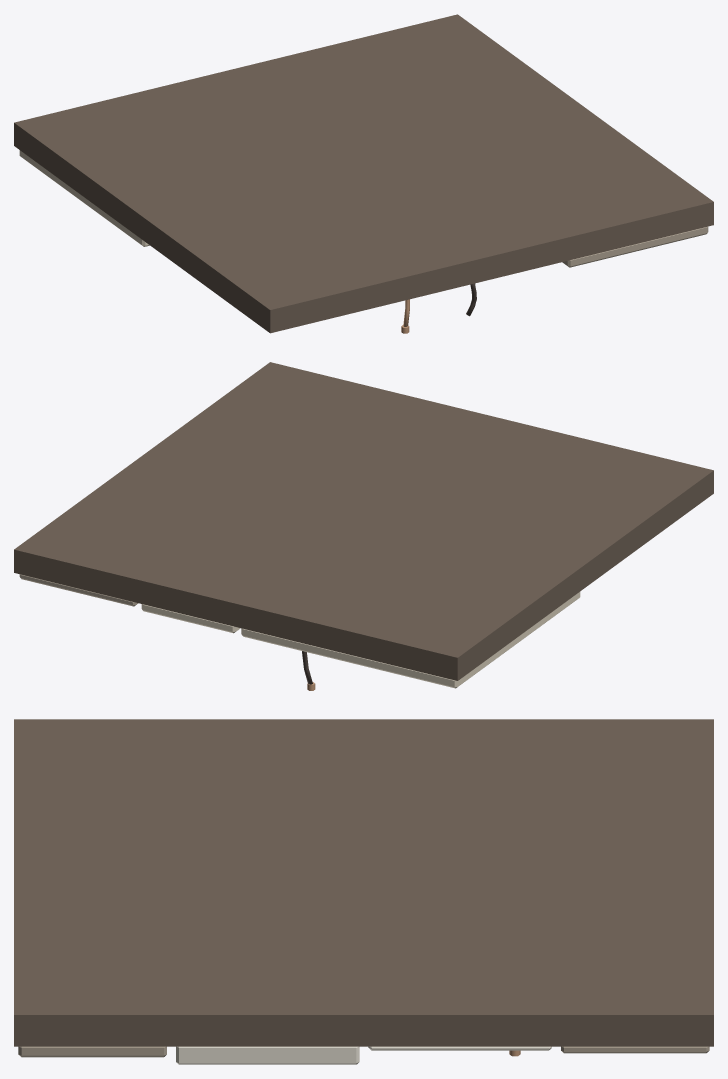
File: ceil_du_plain.glb
The picture shows the model from 3 angles, top to bottom: view 1: azimuth 30°, elevation 25°; view 2: azimuth 150°, elevation 25°; view 3: azimuth 270°, elevation 25°; orthographic projection. The views are drawn at different scales.
Visible parts, largest first — view 1: ceil_du_plain; view 2: ceil_du_plain; view 3: ceil_du_plain.
Boxes of the visible parts, bbox=[...] form: ceil_du_plain: bbox=[14, 14, 713, 333]; ceil_du_plain: bbox=[14, 362, 713, 690]; ceil_du_plain: bbox=[14, 719, 713, 1064].
Bounding box in the file's own units: 4 × 1.19 × 4.
